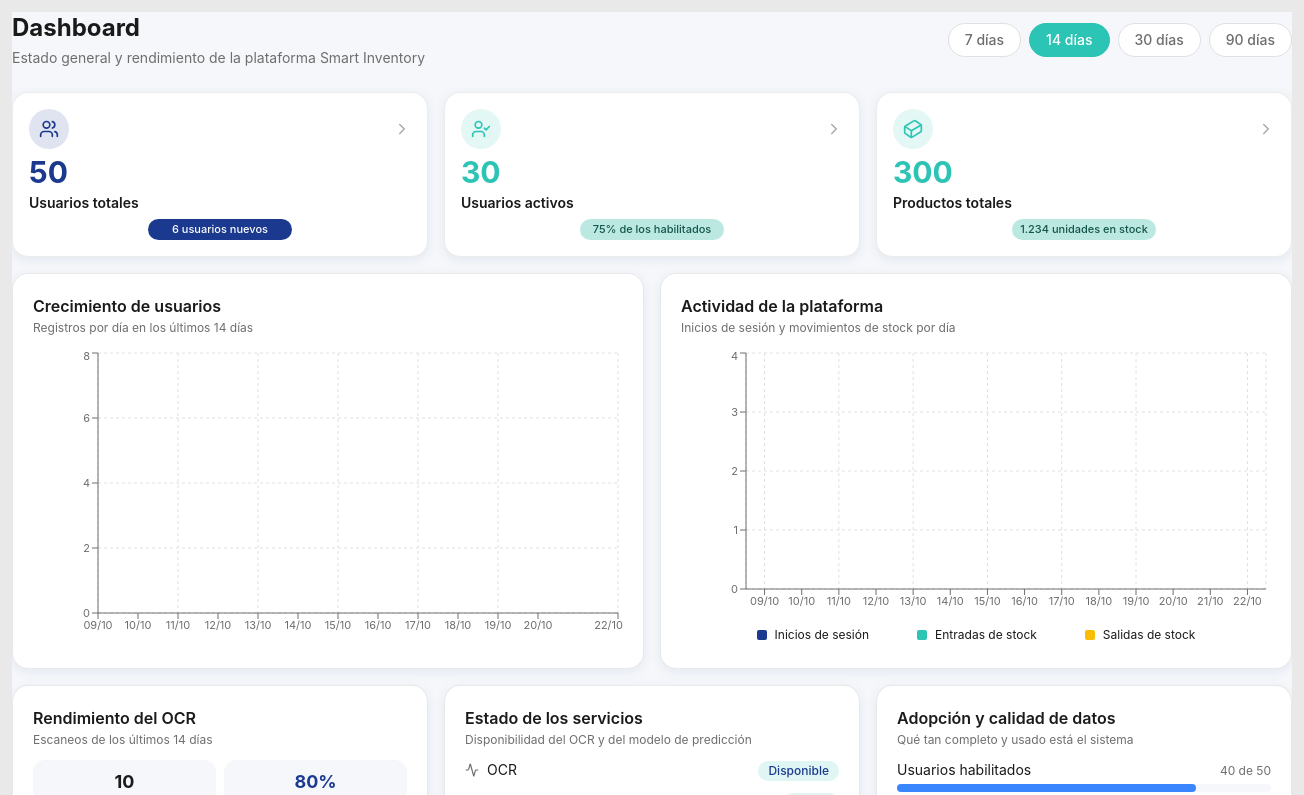
Test: Dashboard del administrador · estructura › elegir otro período vuelve a pedir el resumen con esos días
Expected: the button with test id "stat-users" is shown, [12,92,428,256]
What coordinates should you click on to do the following:
click the button with test id "trends-period-30"
I would click on:
 (1159, 40)
Its box is [1118,23,1201,57].
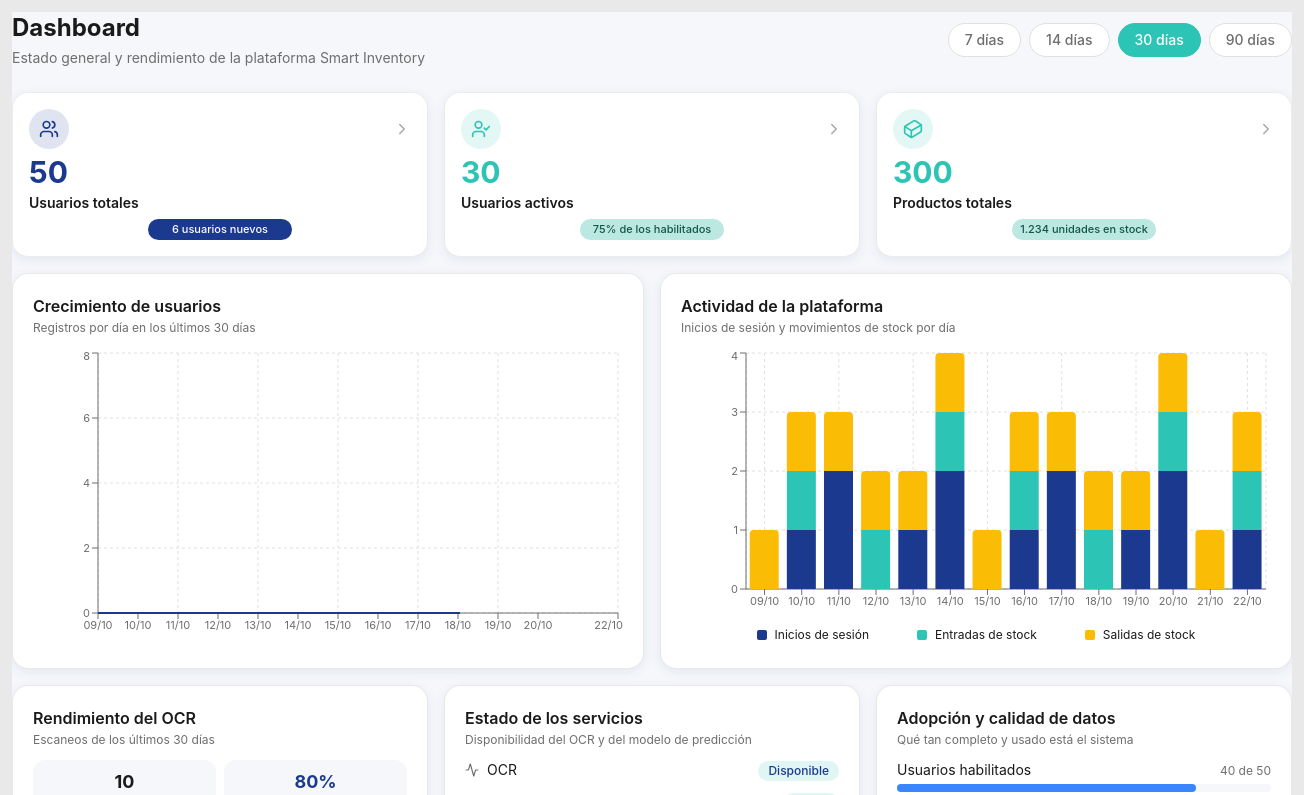
Result: the text "Registros por día en los últimos 30 días" is shown at [33,320,256,336]
